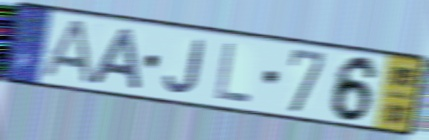6: (327, 54, 382, 124)
7: (286, 46, 326, 114)
A: (36, 18, 95, 87), (85, 26, 144, 92)
J: (162, 36, 207, 96)
L: (212, 40, 254, 105)
